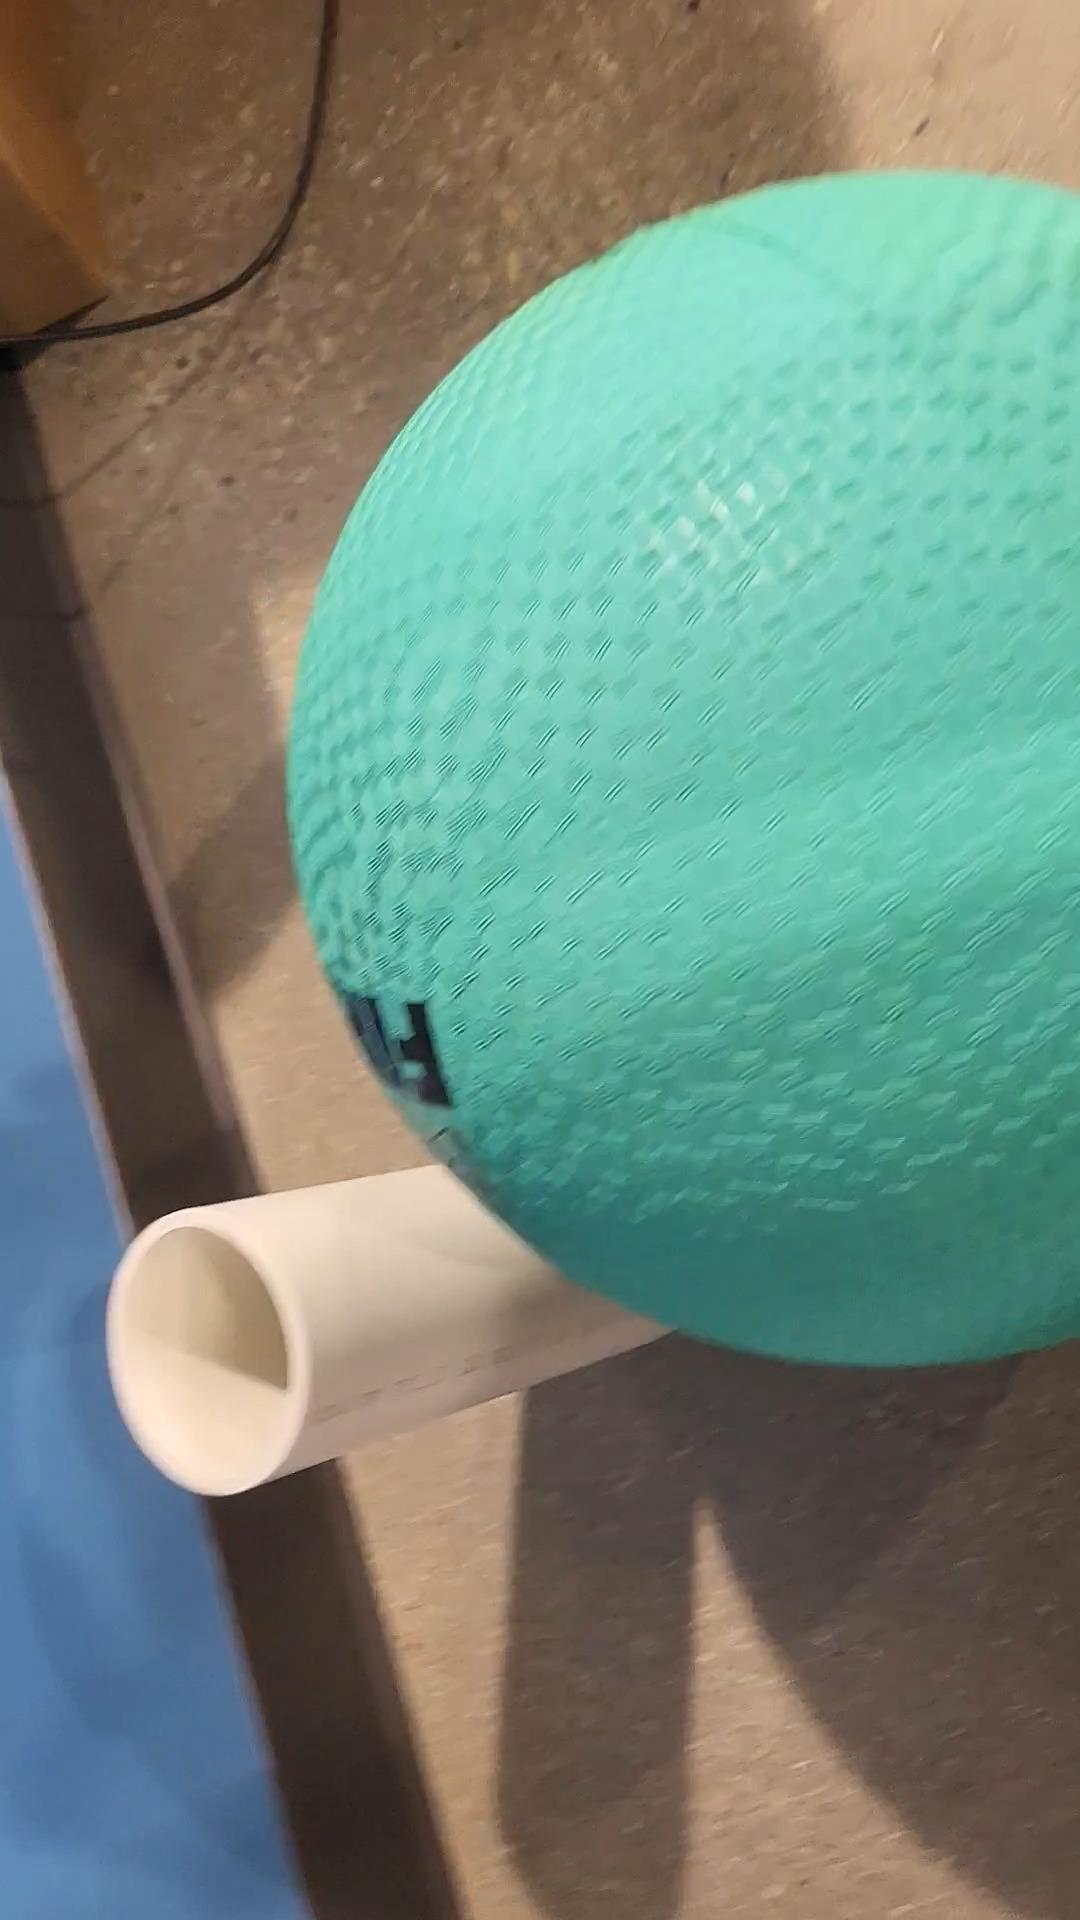algae: (280, 170, 1080, 1367)
coral: (103, 1138, 676, 1501)
